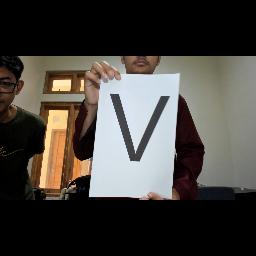v: (106, 90, 176, 166)
